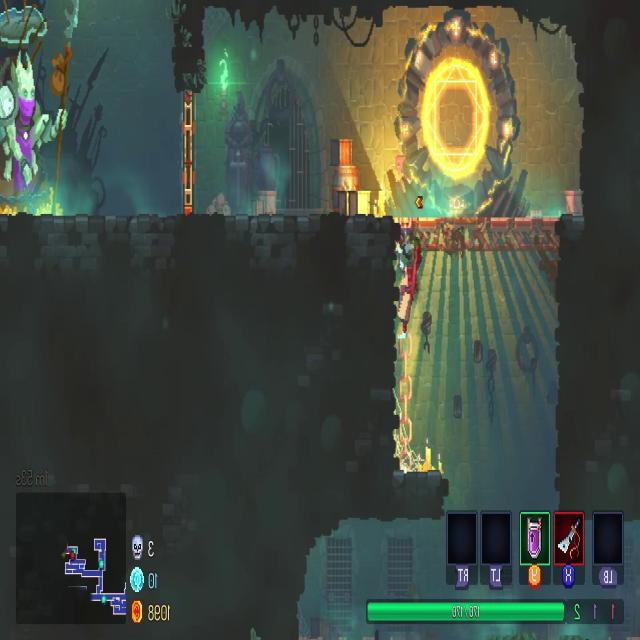agents: (394, 226, 419, 343)
door_regular: (181, 93, 195, 217)
wood_floor: (392, 212, 561, 260)
